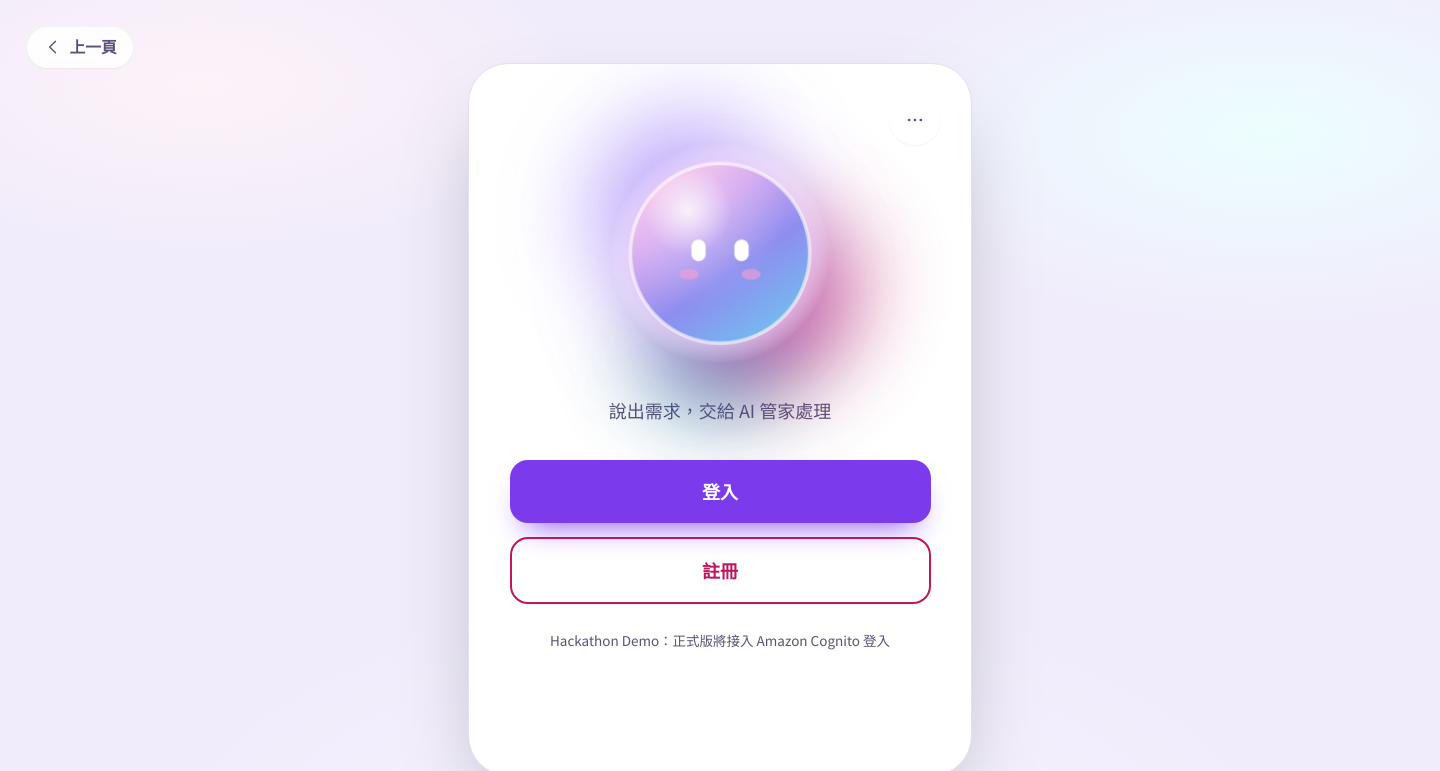
Test: LoginPage 視覺套用 › keeps the existing fields and layout order intact (Requirement 12.4)
Expected: the button "登入" is shown, [510, 460, 930, 523]
Expected: the button "註冊" is shown, [510, 536, 930, 604]
Note: Demo 帳號一鍵登入現在收在右上角「更多登入選項」選單裡，需先展開選單才會出現在 DOM 中
Click the button named "更多登入選項": (915, 120) [890, 96, 940, 145]
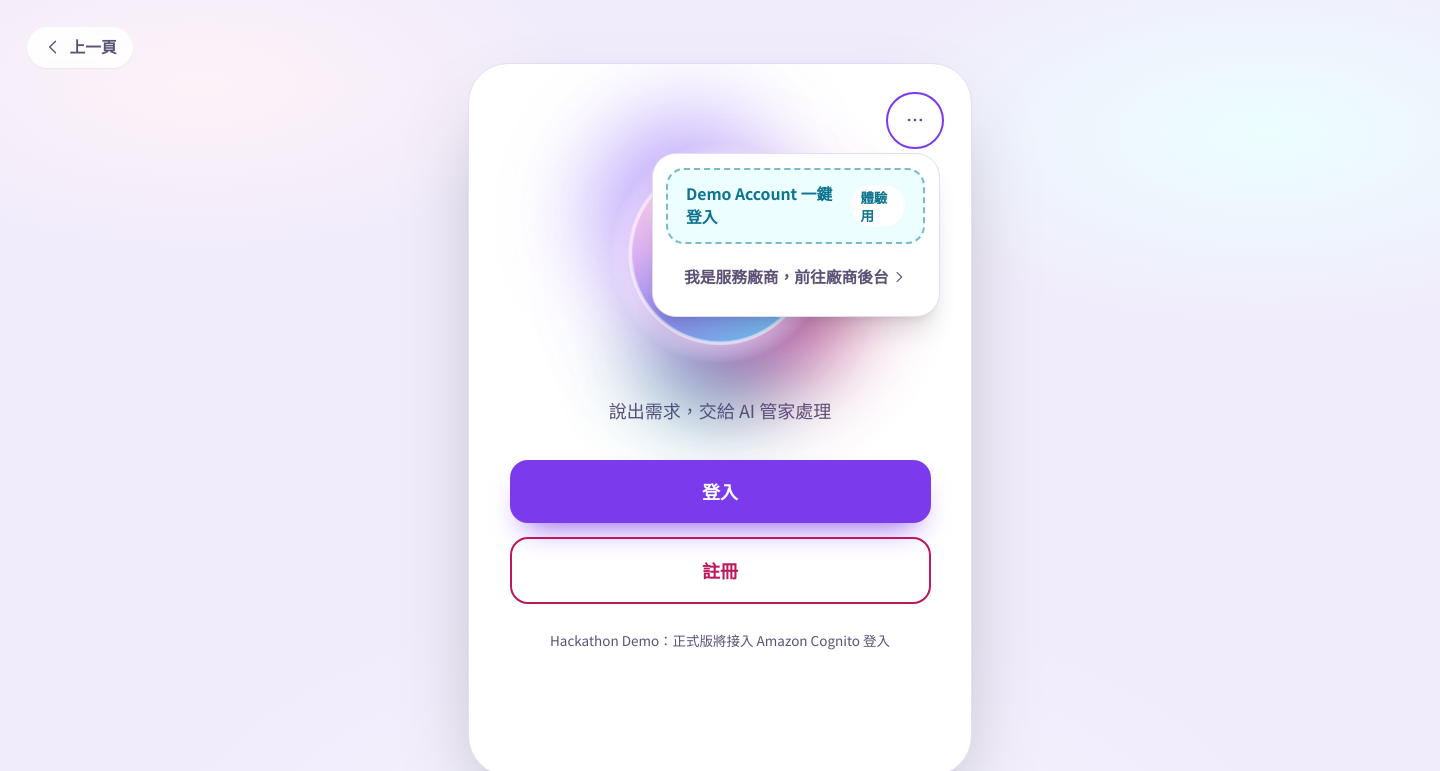
Expected: the menu item "Demo Account 一鍵登入 體驗用" is shown, [666, 168, 925, 244]
Click the button named "更多登入選項": (915, 120) [890, 96, 940, 145]
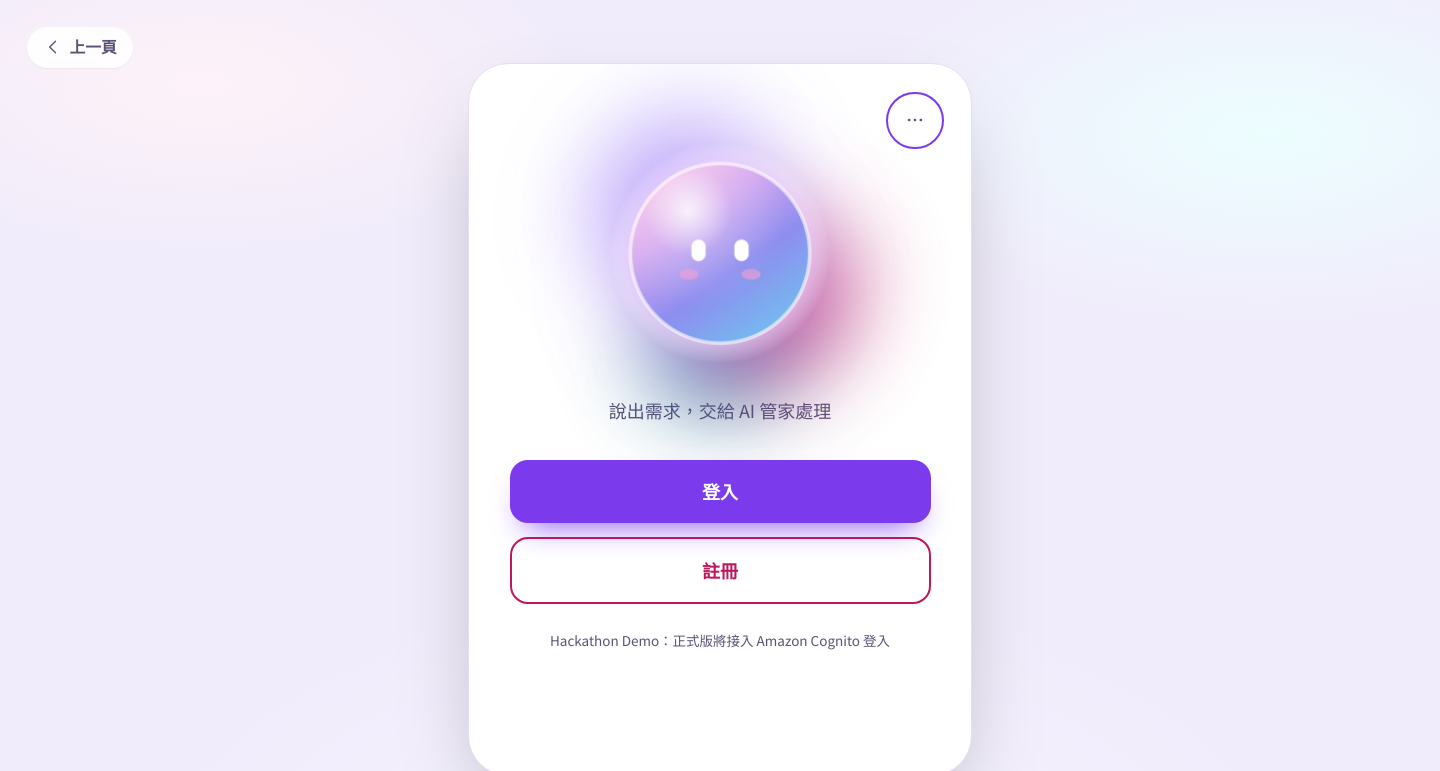
Click the button "註冊": (720, 570) [510, 536, 930, 604]
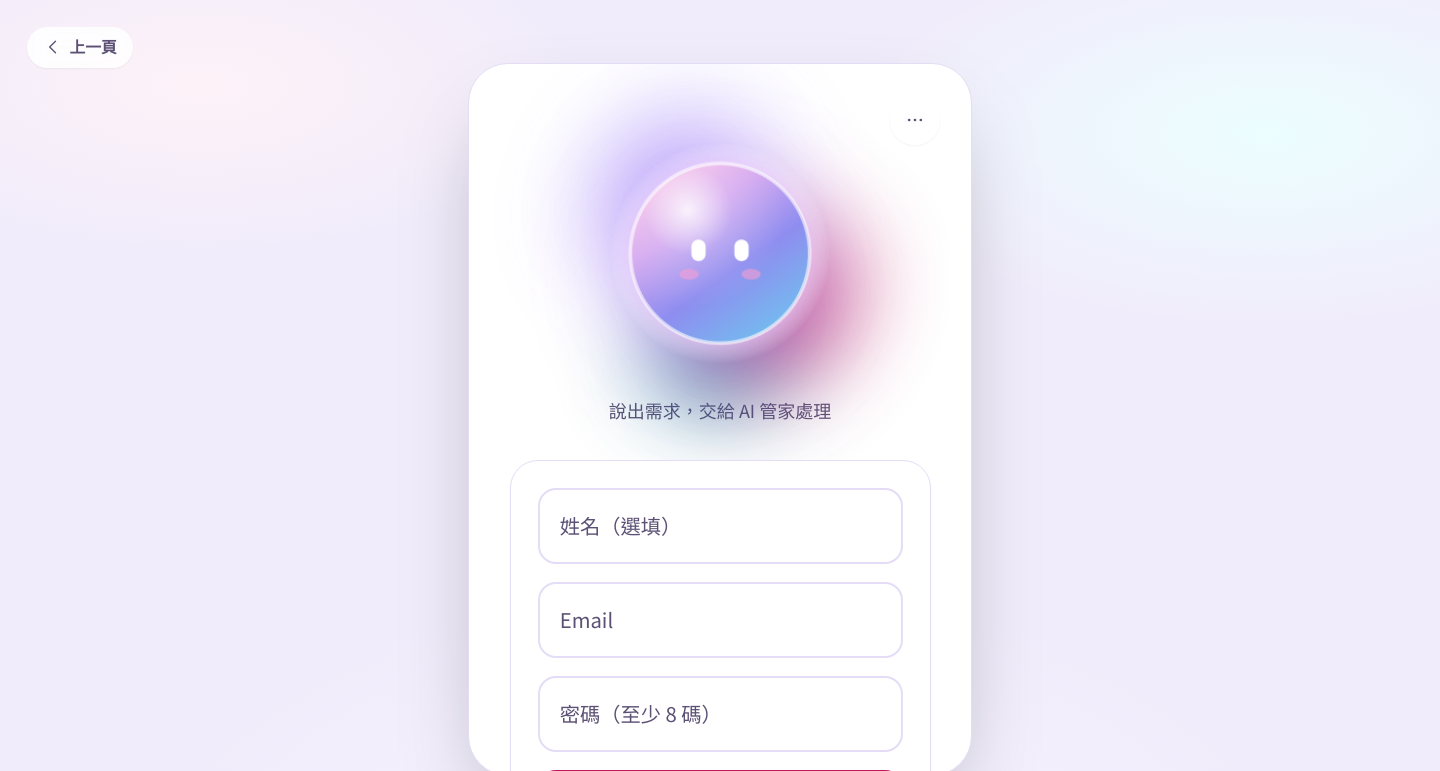
Expected: the password field with placeholder "密碼（至少 8 碼）" is shown, [538, 676, 902, 752]
